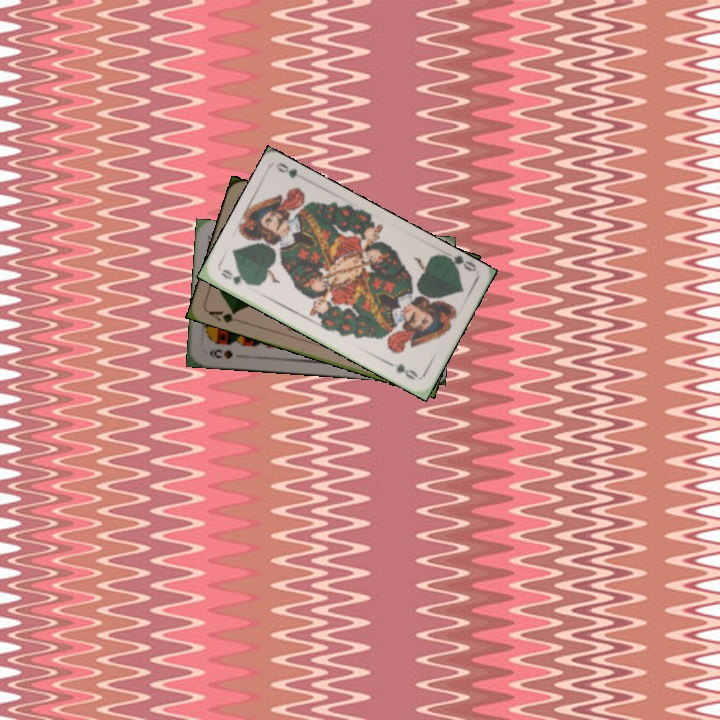GA: (204, 306, 243, 326)
GO: (440, 251, 479, 276), (217, 265, 256, 288)
S8: (205, 345, 235, 361)
